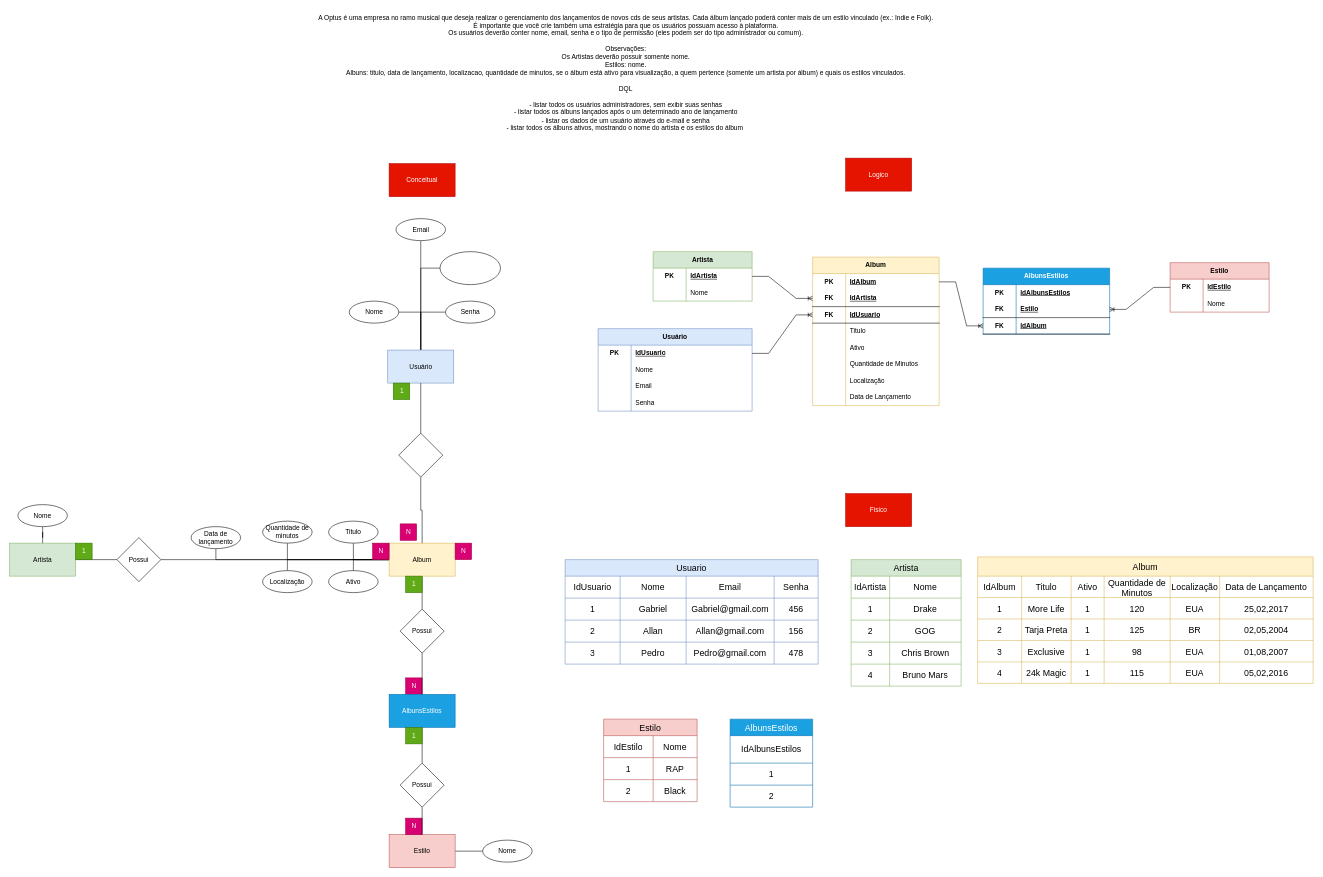
Some shapes in this 1323 by 877 pixel diagram are drawn without their labels. Each missing label, with the centre of its shape:
Acessa: point 420,455
Administrador/Ativo: point 470,268
